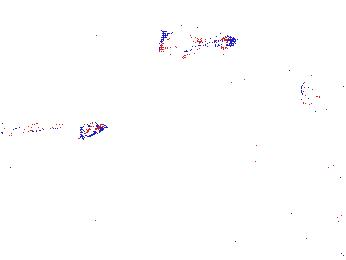glassfish: (1, 114, 110, 148)
redtail glassfish: (156, 22, 238, 58), (277, 45, 338, 79), (299, 83, 320, 108)
